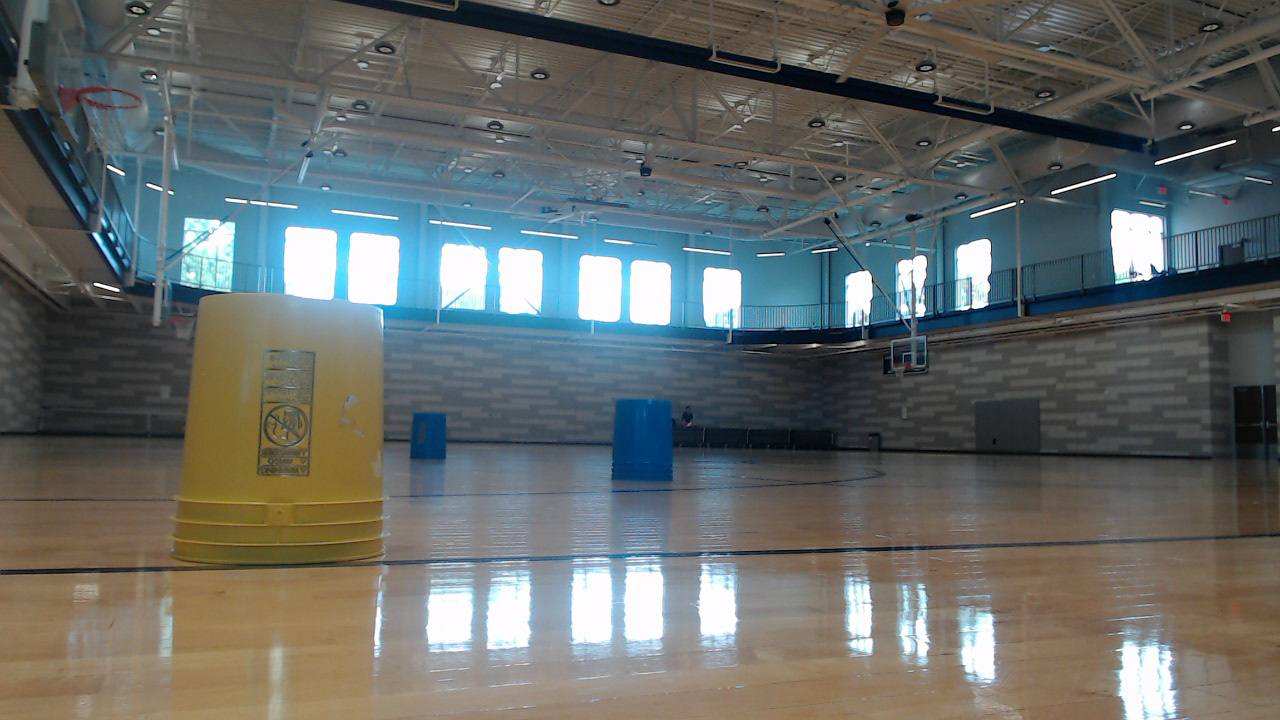blue_bucket: (613, 400, 683, 492), (413, 415, 457, 470)
yellow_bucket: (172, 294, 399, 580)
